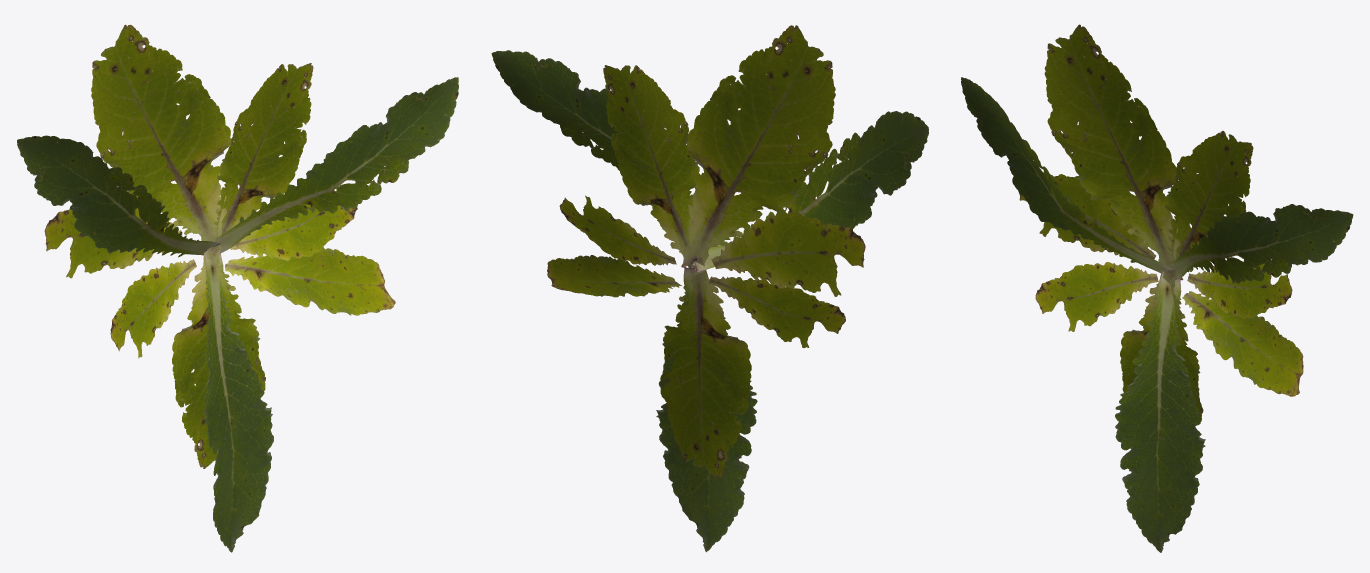
Rendered from Weed_01_Var2_LOD2.fbx.
The picture shows the model from 3 angles, left to right: view 1: azimuth 30°, elevation 25°; view 2: azimuth 150°, elevation 25°; view 3: azimuth 330°, elevation 25°; orthographic projection. The views are drawn at different scales.
Visible parts, largest first — view 1: Var2_LOD2; view 2: Var2_LOD2; view 3: Var2_LOD2.
Part boxes in pixels (x1,y1,x2,y2): Var2_LOD2: [17, 24, 458, 552]; Var2_LOD2: [491, 25, 928, 552]; Var2_LOD2: [961, 24, 1353, 552].
Bounding box in the file's own units: 31.55 × 38.67 × 5.15.
